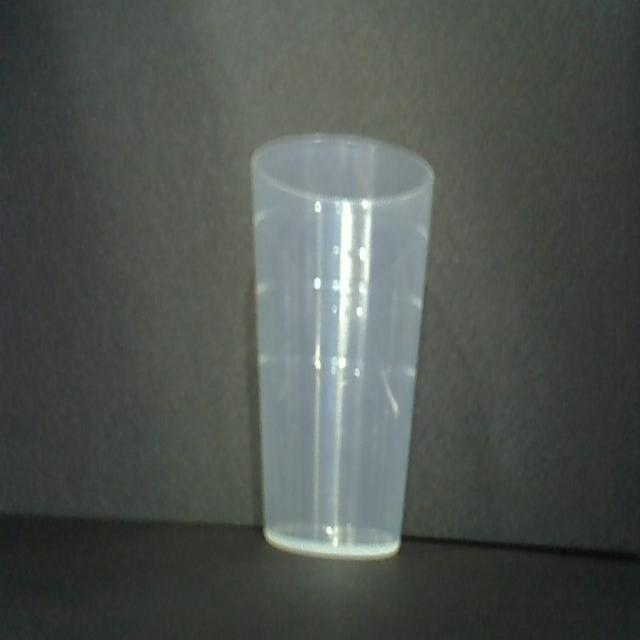cup: (248, 129, 430, 567)
